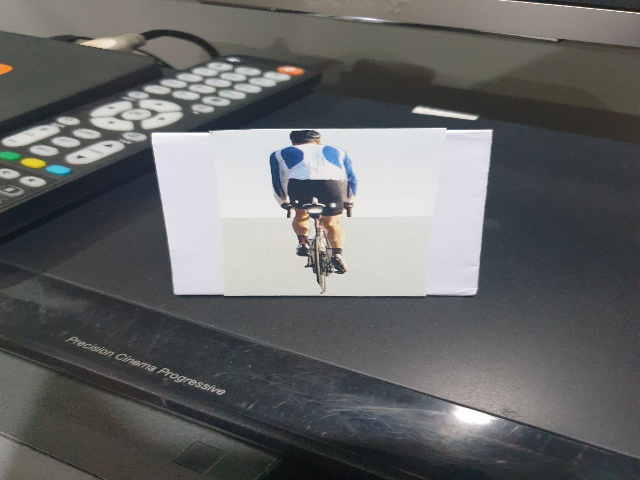Cyclist: (266, 131, 366, 297)
